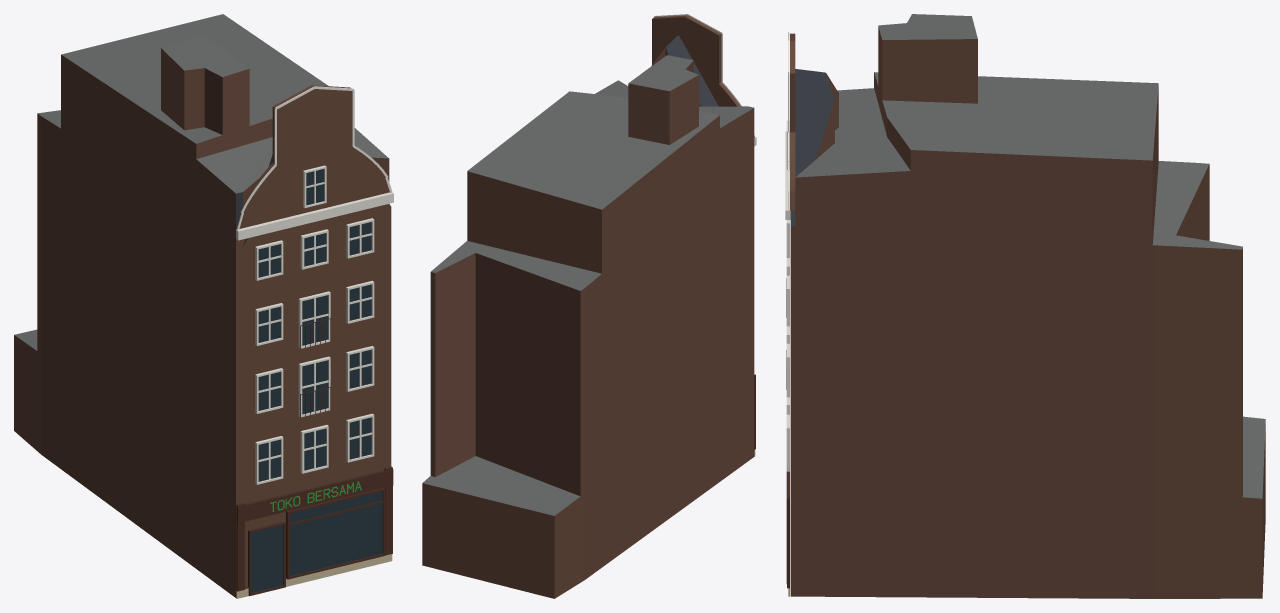
The model's file is recipe-bilder-157154.glb.
3 views of the same model, side by side, from view 1: azimuth 30°, elevation 25°; view 2: azimuth 150°, elevation 25°; view 3: azimuth 270°, elevation 25° (orthographic). The views are drawn at different scales.
Parts seen in each view (by area): view 1: bilder-157154; view 2: bilder-157154; view 3: bilder-157154.
Part boxes in pixels (x1,y1,x2,y2): bilder-157154: (14,14,393,598); bilder-157154: (422,14,756,598); bilder-157154: (785,14,1265,598).
Size of the model in its own units: 6.47 by 19.03 by 16.04.
